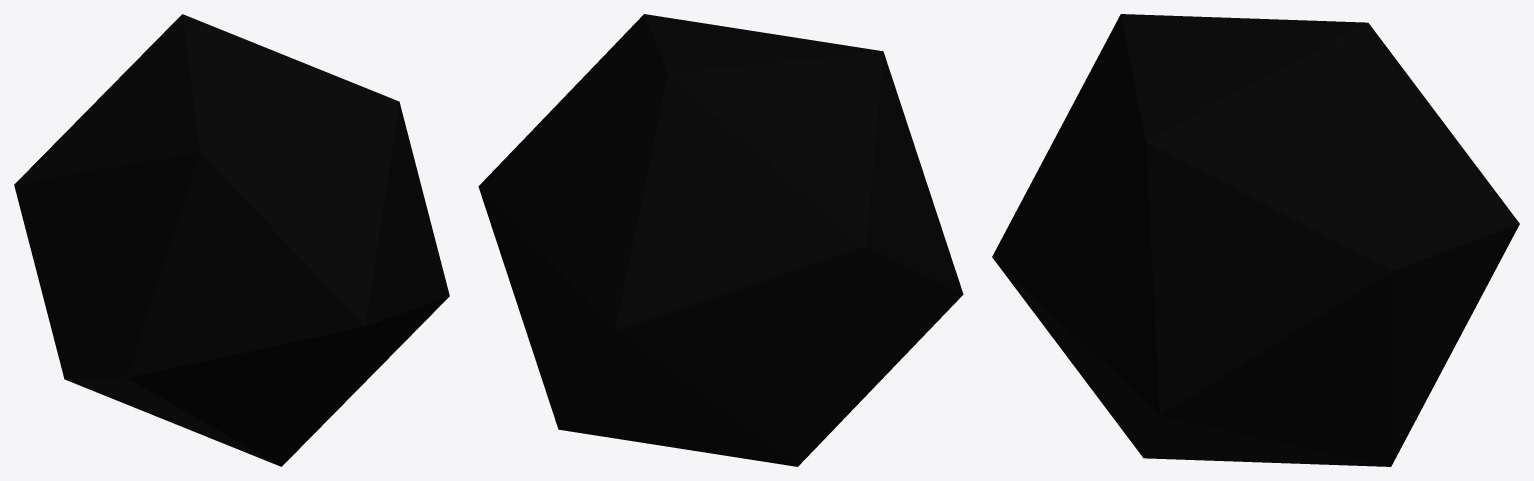
The model's file is 3l многоугольник.glb.
3 views of the same model, side by side, from view 1: azimuth 30°, elevation 25°; view 2: azimuth 150°, elevation 25°; view 3: azimuth 270°, elevation 25° (orthographic). The views are drawn at different scales.
Visible parts, largest first — view 1: node_id8; view 2: node_id8; view 3: node_id8.
Part boxes in pixels (left/top/right/bottom): node_id8: left=14, top=14, right=449, bottom=466; node_id8: left=478, top=14, right=963, bottom=466; node_id8: left=992, top=14, right=1519, bottom=466.
Size of the model in its own units: 0.2924 by 0.3028 by 0.3329.
Materials: 1 (1 with a texture image).
